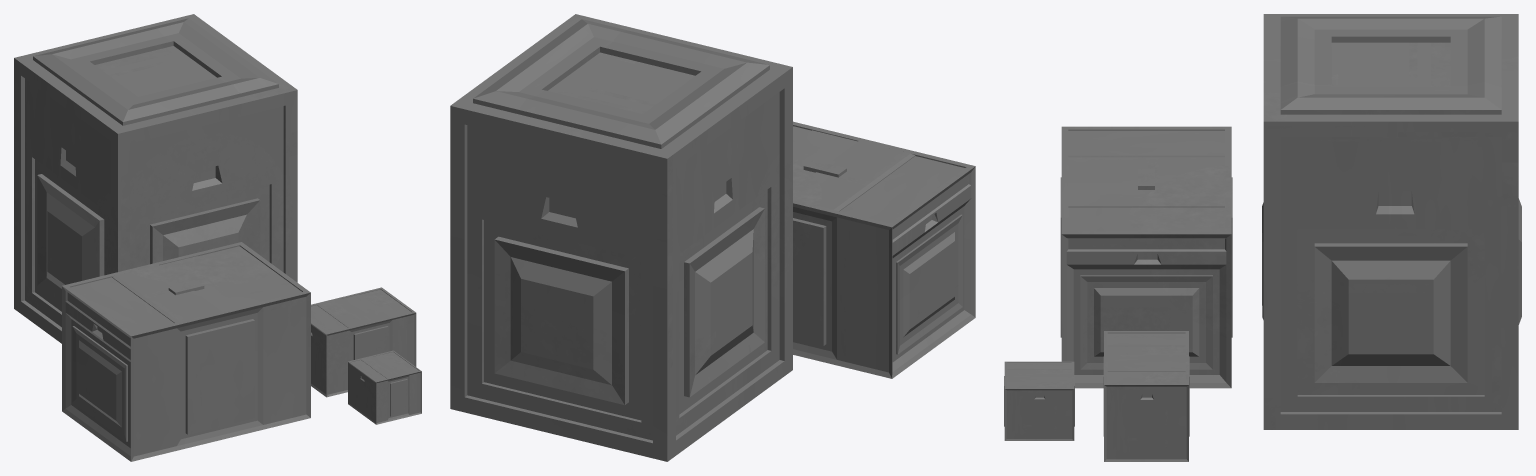
Rendered from Boxes.fbx.
3 views of the same model, side by side, from view 1: azimuth 30°, elevation 25°; view 2: azimuth 150°, elevation 25°; view 3: azimuth 270°, elevation 25° (orthographic). The views are drawn at different scales.
Visible parts, largest first — view 1: PackingBox003, PackingBox001, PackingBox002, PackingBox004; view 2: PackingBox003, PackingBox001; view 3: PackingBox003, PackingBox001, PackingBox002, PackingBox004.
Part boxes in pixels (x1,y1,x2,y2): PackingBox003: [14, 14, 297, 343]; PackingBox001: [62, 242, 310, 461]; PackingBox002: [311, 287, 416, 397]; PackingBox004: [348, 350, 421, 424]; PackingBox003: [450, 14, 792, 461]; PackingBox001: [793, 121, 975, 378]; PackingBox003: [1262, 14, 1521, 429]; PackingBox001: [1060, 126, 1232, 388]; PackingBox002: [1103, 331, 1189, 461]; PackingBox004: [1004, 361, 1074, 440].
Size of the model in its own units: 49.68 by 40.62 by 59.97.
Materials: 1 (1 with a texture image).
